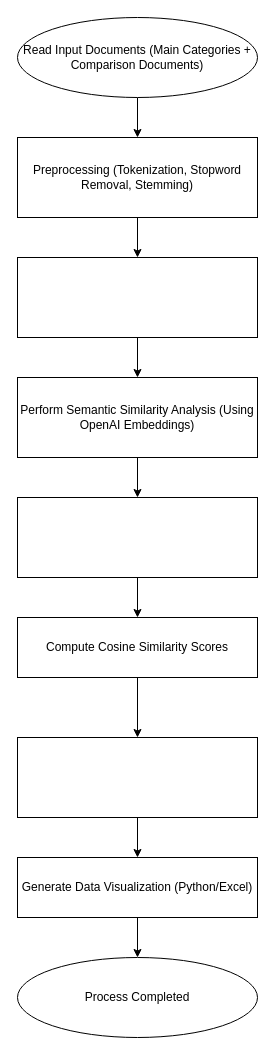
This 275x1055 diagram has some shape labels left out. The centre of each missing label's shape, as x and y in pixels:
Export Results in CSV Format: [137,777]
Generate Embedding Vectors: [137,537]
Save Pre-Processed Files into categorized Folders: [137,297]
